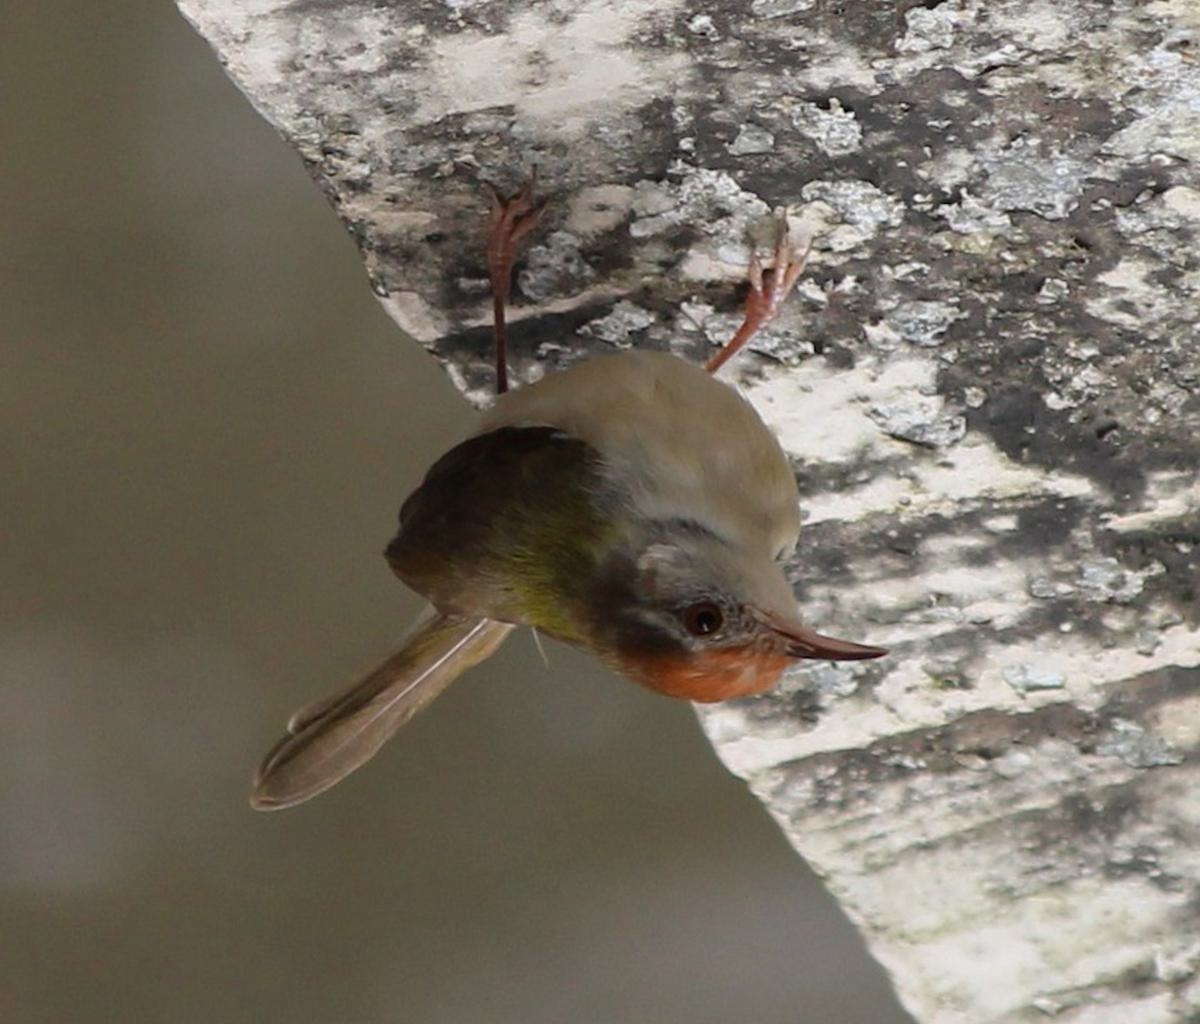tailorbird: (204, 234, 835, 827)
